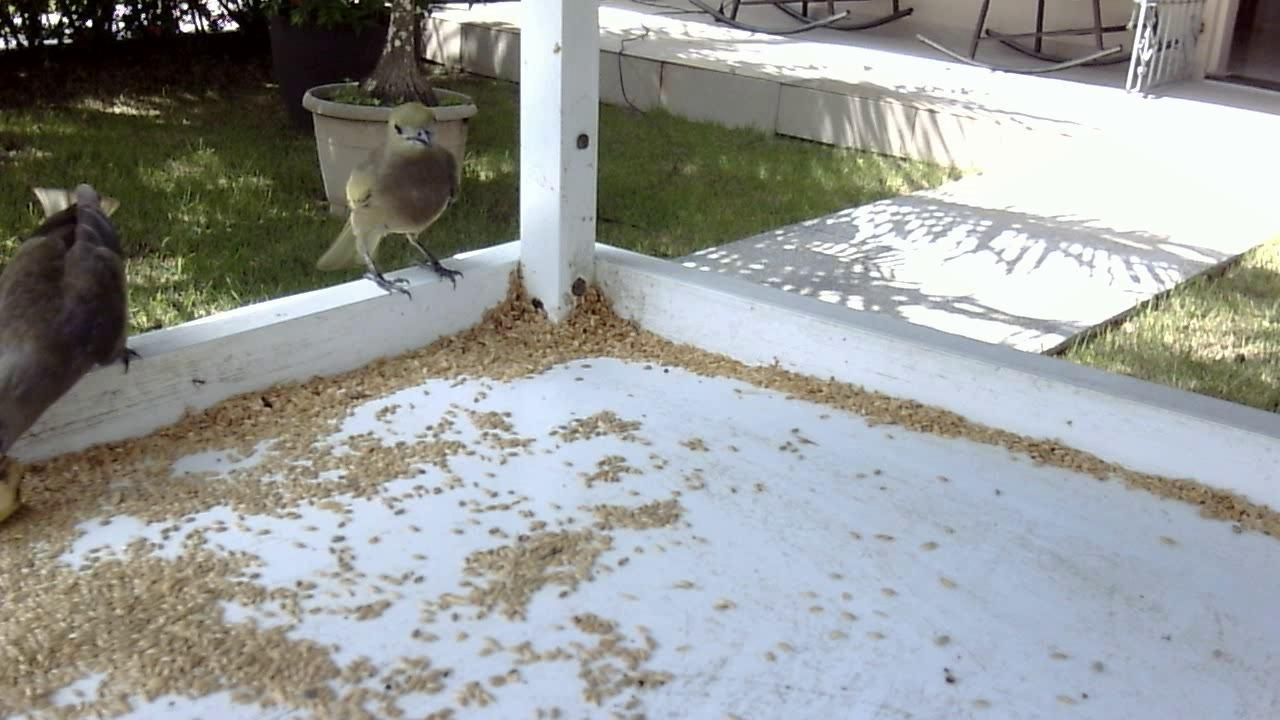sanhaco_do_coqueiro: (1, 184, 152, 523), (310, 96, 476, 310)
